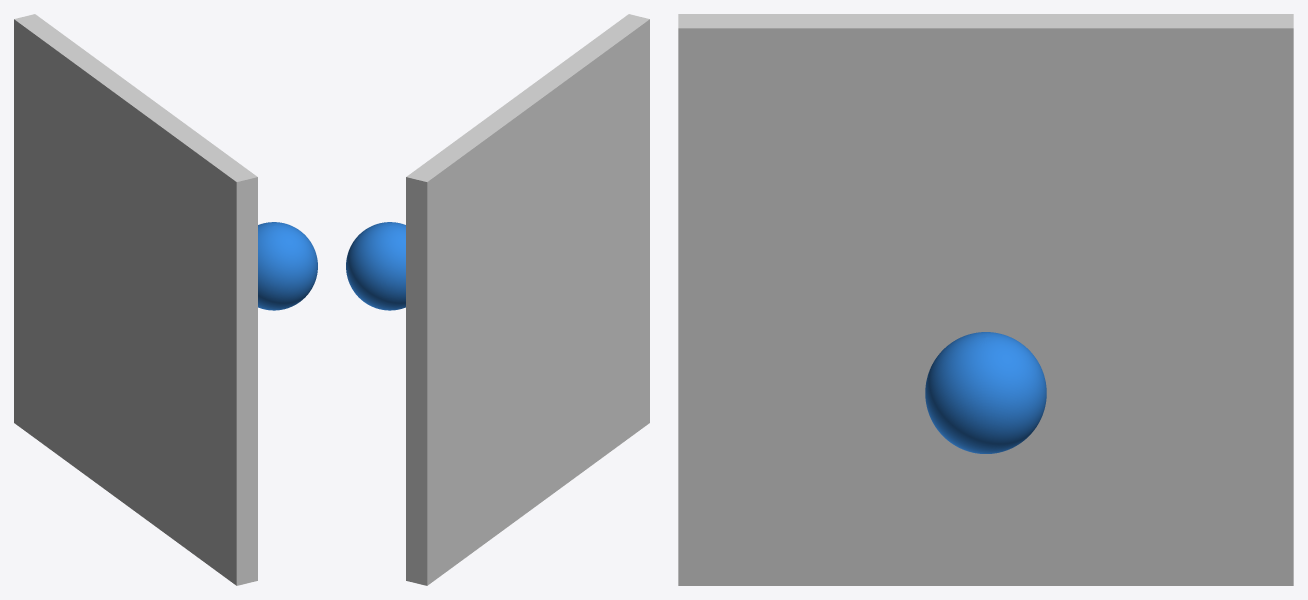
File: Ball.glb
The picture shows the model from 3 angles, left to right: view 1: azimuth 30°, elevation 25°; view 2: azimuth 150°, elevation 25°; view 3: azimuth 270°, elevation 25°; orthographic projection. The views are drawn at different scales.
Visible parts, largest first — view 1: 立方体, 球体; view 2: 立方体, 球体; view 3: 立方体, 球体.
Part boxes in pixels (x1,y1,x2,y2): 立方体: (14, 14, 257, 585); 球体: (258, 222, 317, 310); 立方体: (406, 14, 649, 585); 球体: (346, 222, 405, 310); 立方体: (678, 14, 1293, 585); 球体: (925, 332, 1046, 453).
Bounding box in the file's own units: 0.9679 × 2 × 2.
